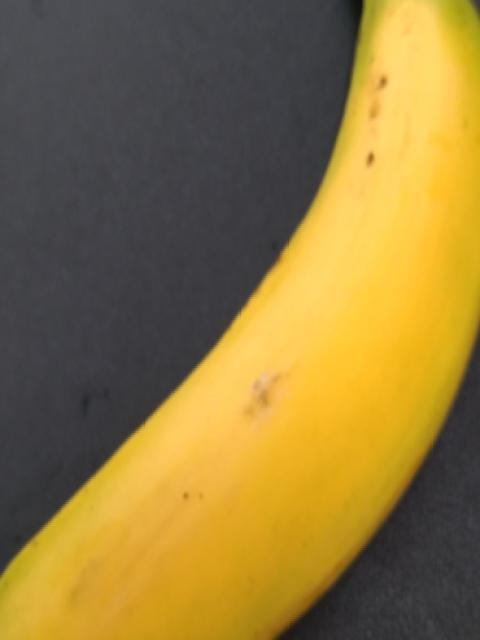freshripe: (0, 0, 479, 635)
